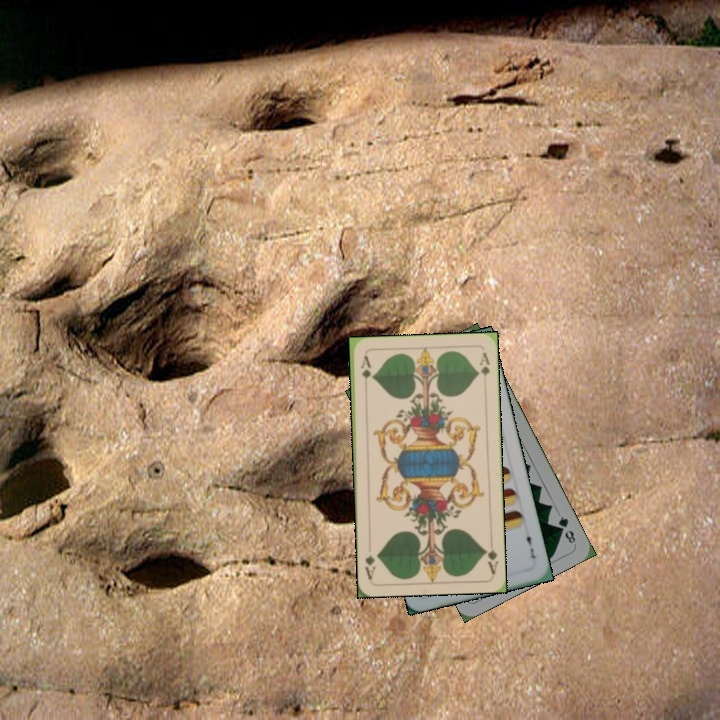E7: (522, 527, 538, 561)
G8: (554, 512, 578, 546)
GA: (480, 536, 501, 576), (357, 352, 373, 392)
